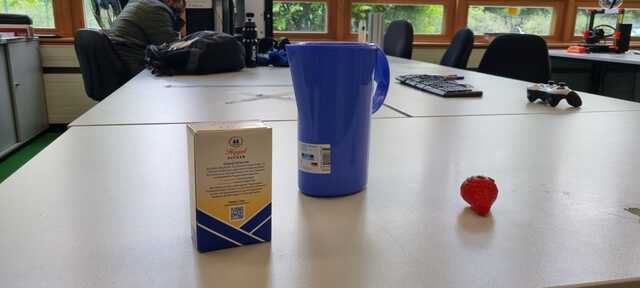004_sugar_box: (186, 121, 275, 253)
012_strawberry: (460, 176, 499, 217)
019_pitcher_base: (283, 41, 390, 199)
